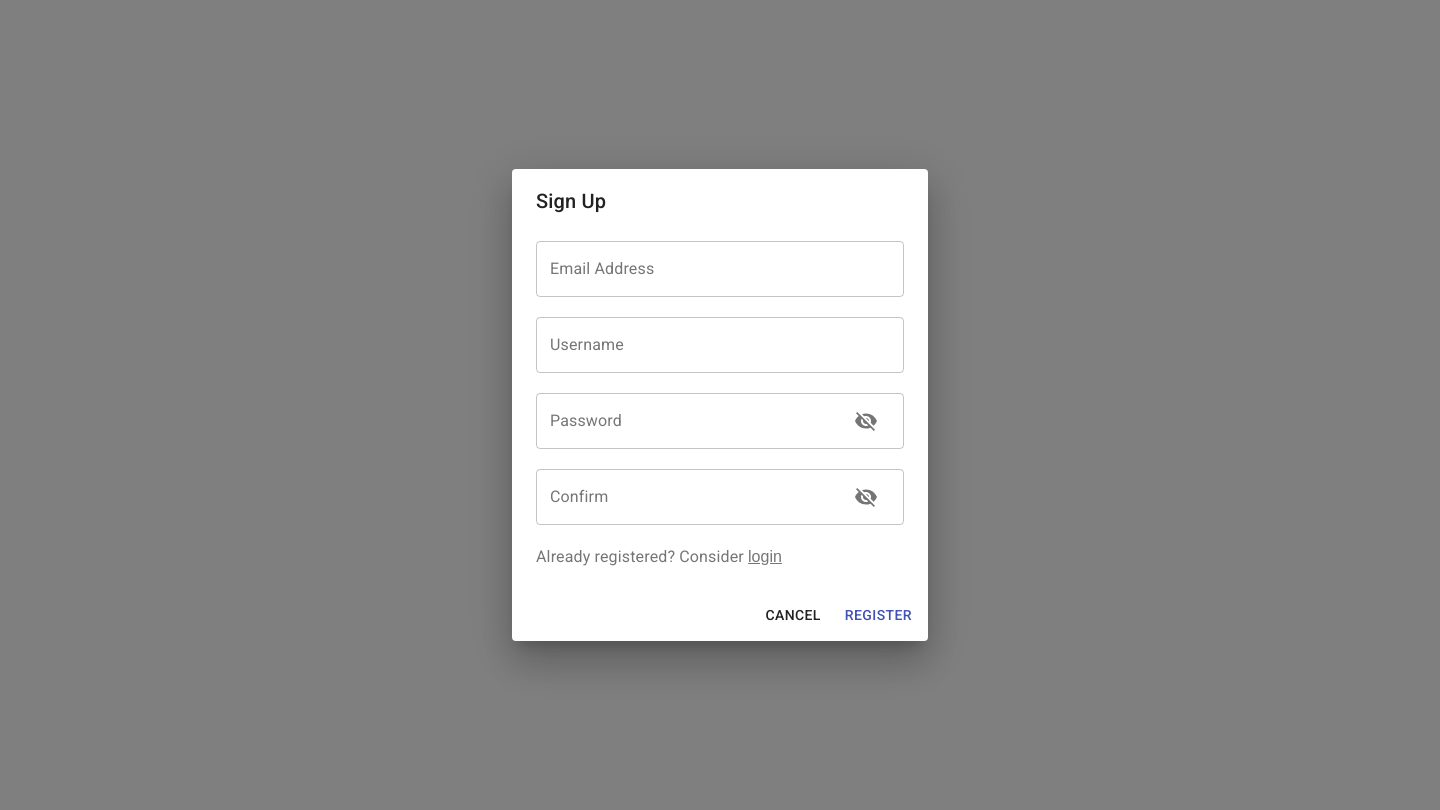
Test: <SignUp /> › should set errors on form fields
The width and height of the screenshot is (1440, 810).
Type "marklar" into the field with test id "username". click: (720, 345)
box: left=536, top=317, right=904, bottom=373
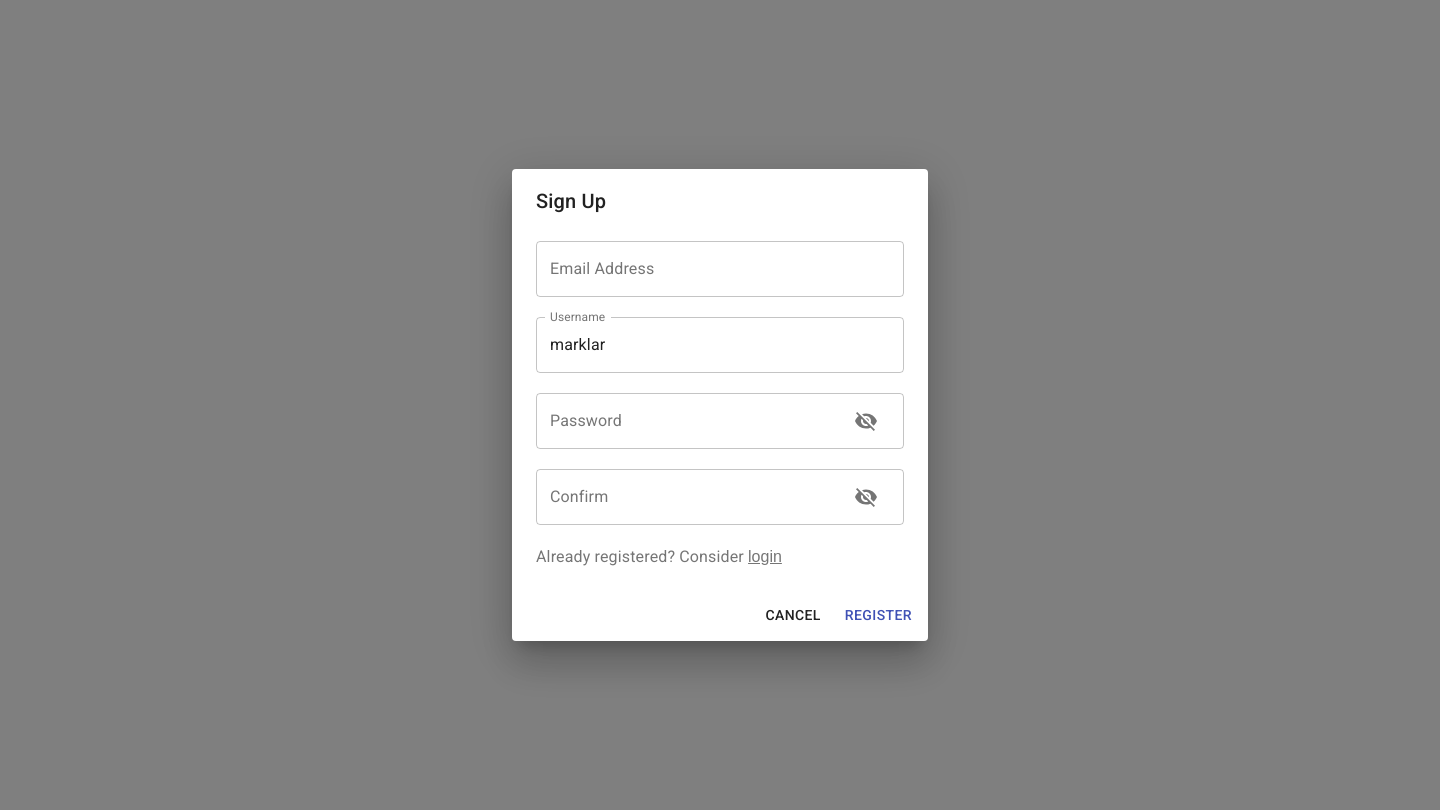
Type "Foobar2@" into the password field with test id "password". click: (685, 421)
box: left=536, top=393, right=834, bottom=449
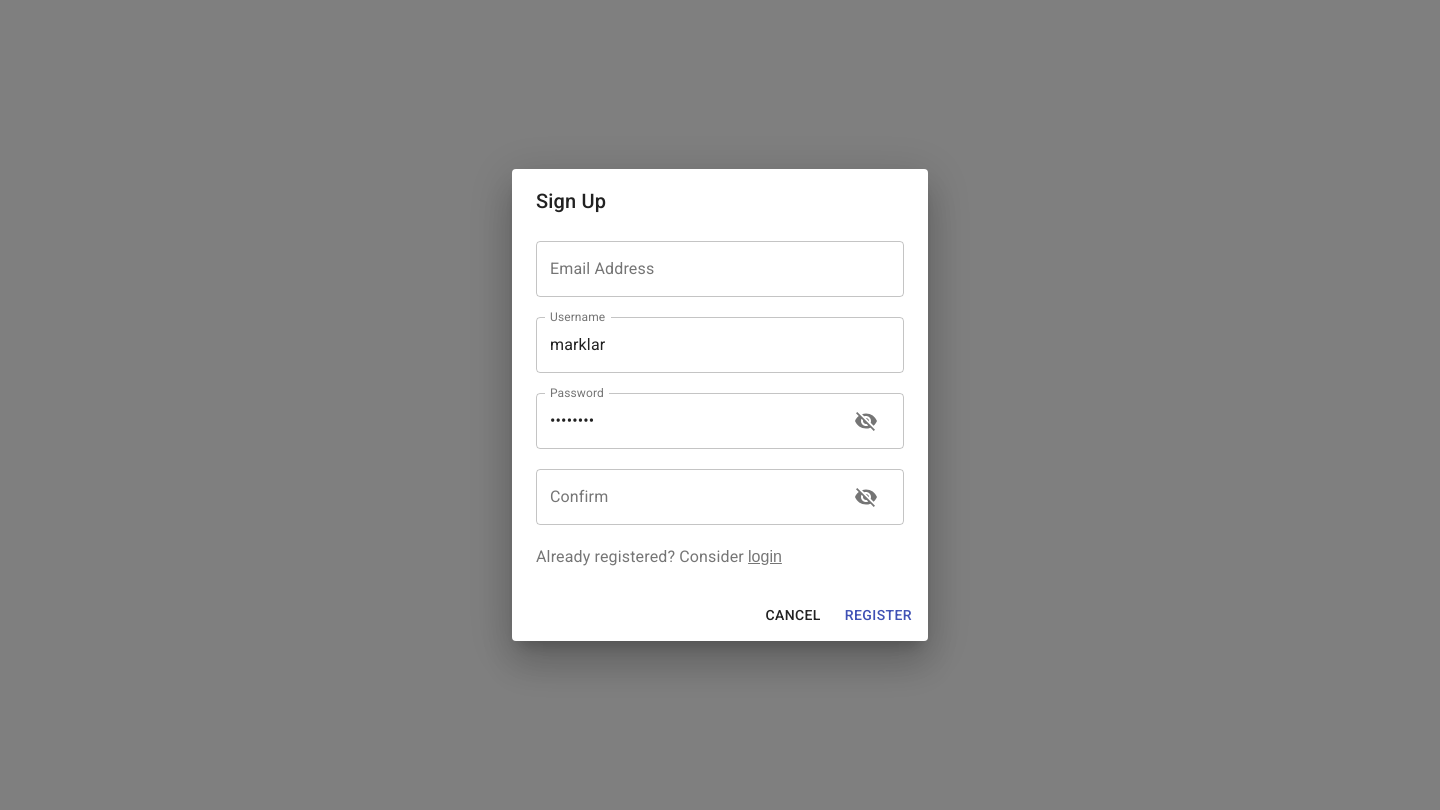
Type "foo@bar.com" into the field with test id "email". click: (720, 269)
box: left=536, top=241, right=904, bottom=297
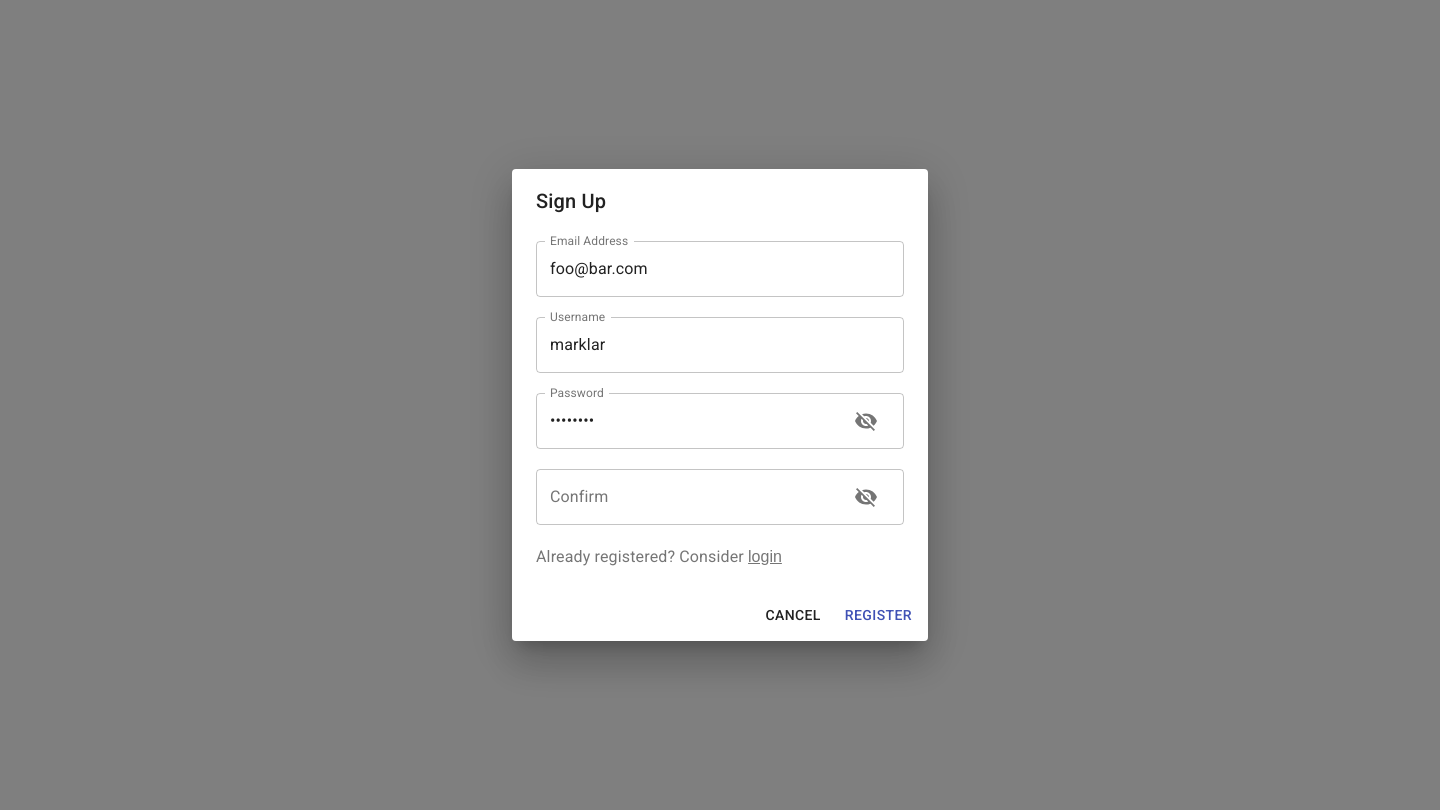
Type "Foobar2@" into the password field with test id "confirm". click: (685, 497)
box: left=536, top=469, right=834, bottom=525
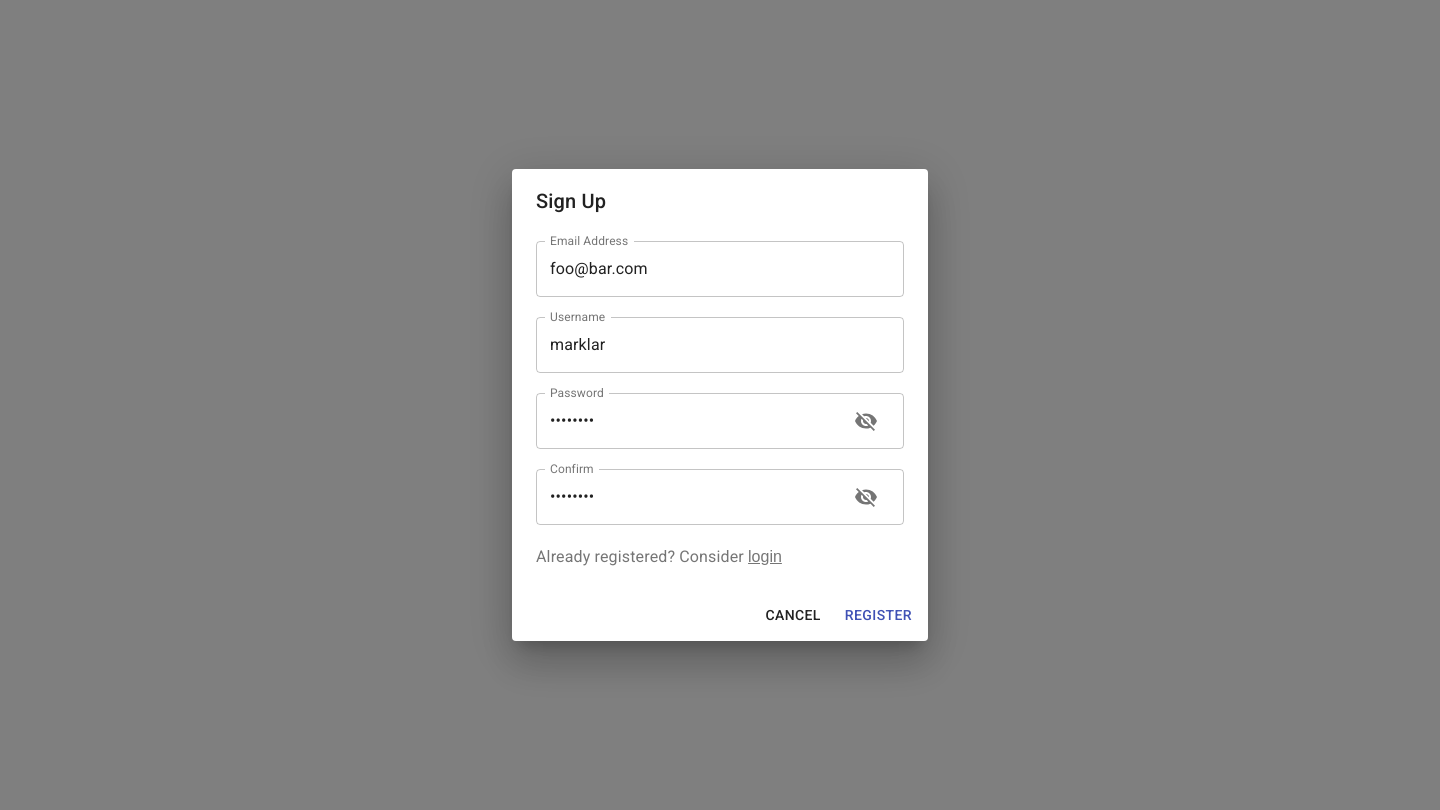
Click the button with test id "registerButton". click: (878, 615)
box: left=837, top=597, right=920, bottom=633
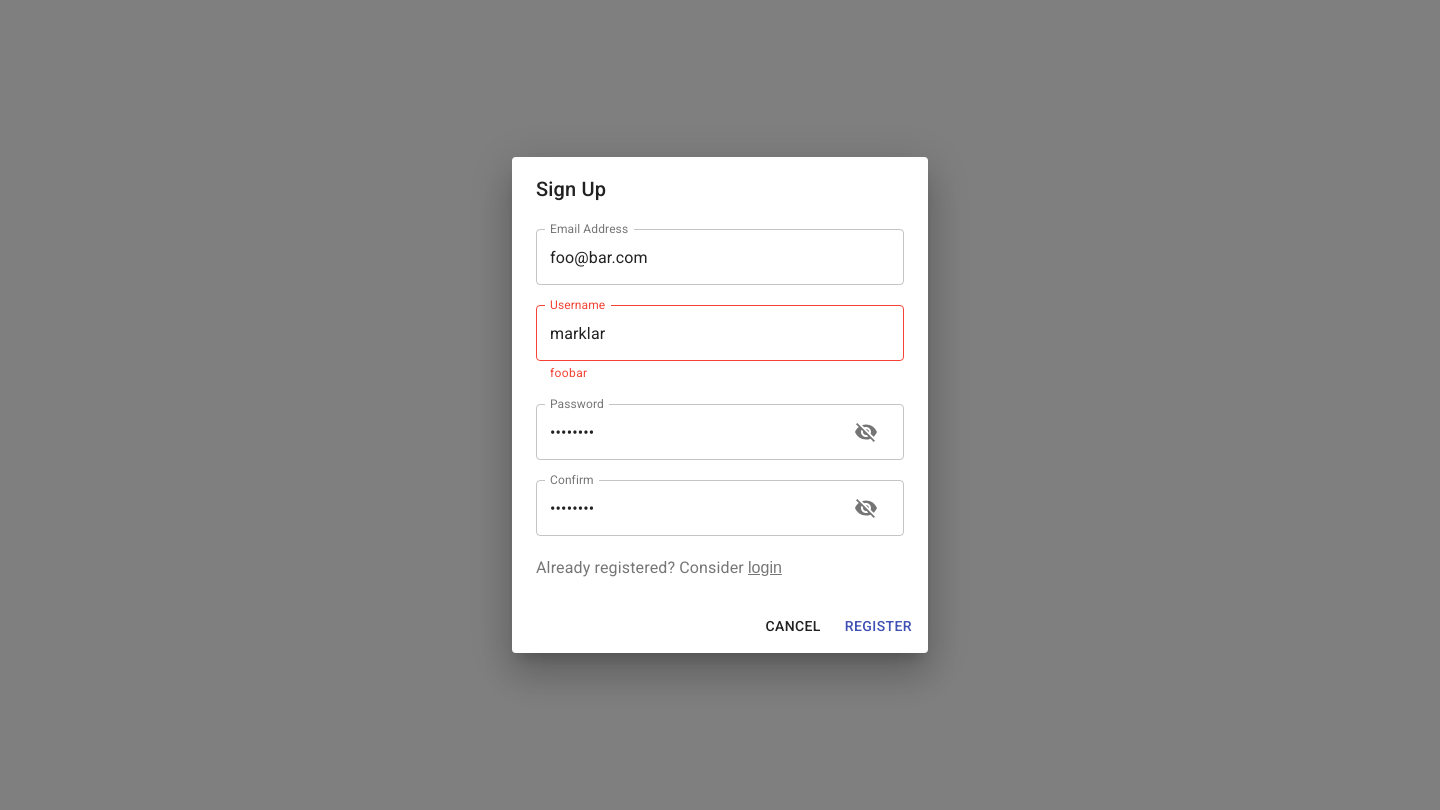
Expected: the text "foobar" is shown, left=550, top=366, right=588, bottom=380
